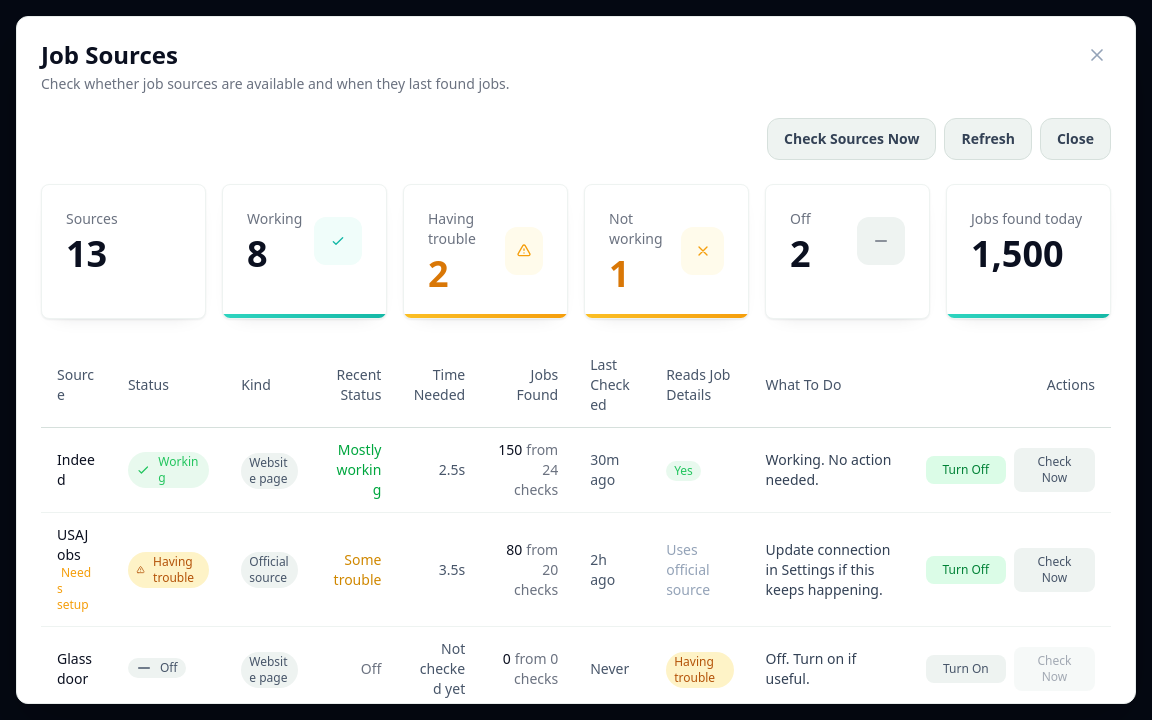
ScraperHealthDashboard source checks › source check all › shows testing state while running
Step 1. Click the button "Check Sources Now" → point(852, 139), box [767,118,936,160]
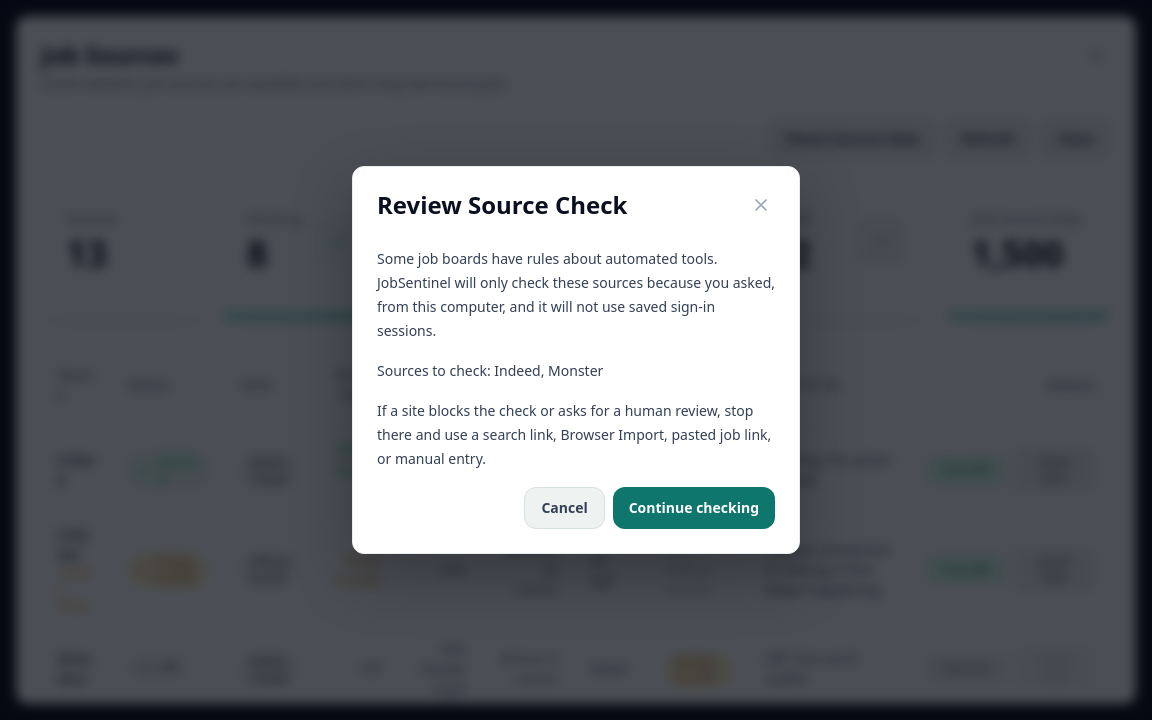
Step 2. Click the button "Continue checking" → point(694, 508), box [613,487,775,529]
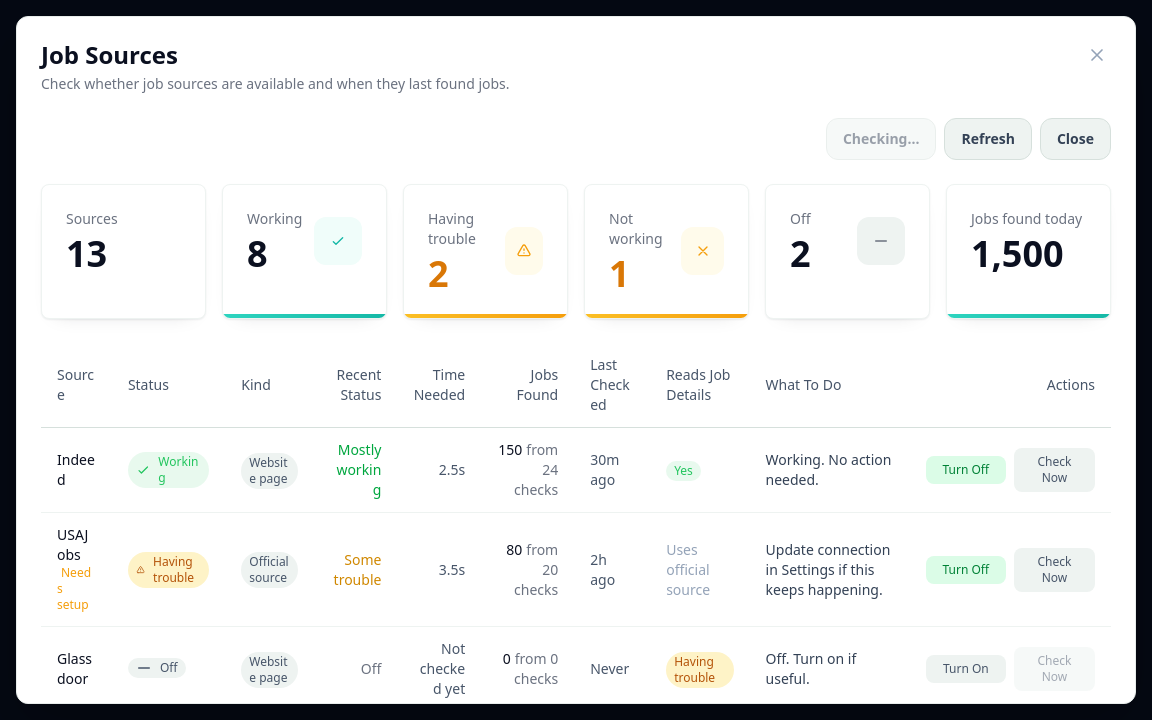
Result: the button "Checking..." is shown at [826,118,936,160]
